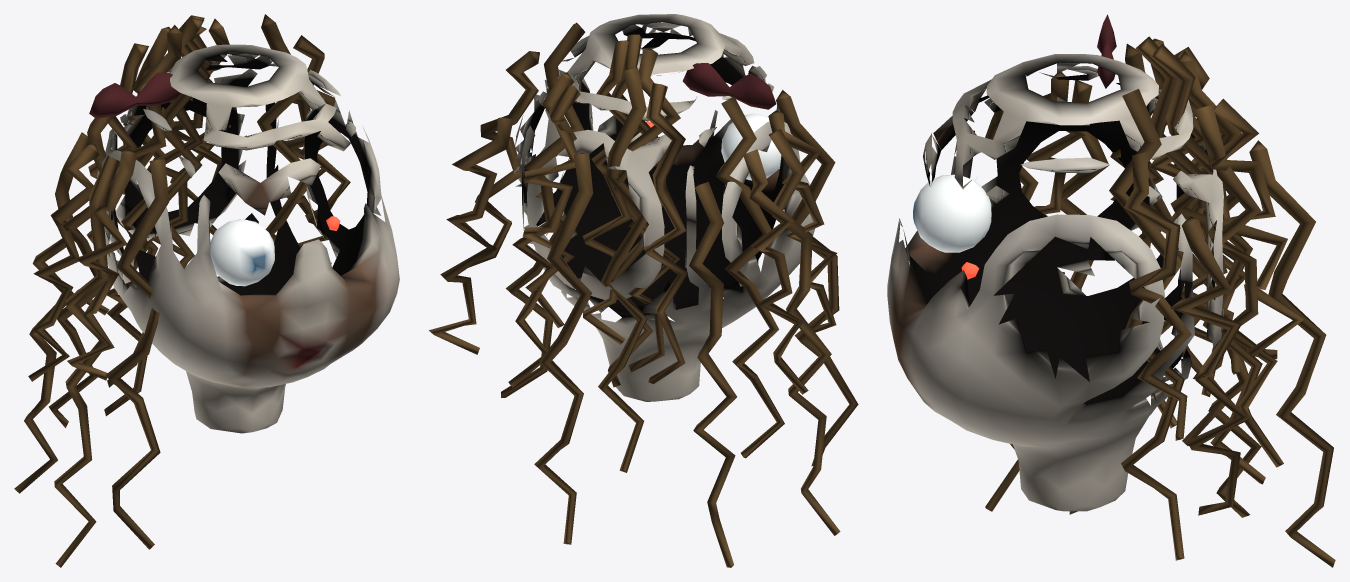
Rendered from doll_head_v14.glb.
3 renders of one model, left to right at view 1: azimuth 30°, elevation 25°; view 2: azimuth 150°, elevation 25°; view 3: azimuth 270°, elevation 25°, orthographic. The views are drawn at different scales.
Parts seen in each view (by area): view 1: doll_head; view 2: doll_head; view 3: doll_head.
Part boxes in pixels (x1,y1,x2,y2): doll_head: (14,14,399,567); doll_head: (429,14,858,567); doll_head: (887,14,1335,567).
Size of the model in its own units: 0.2731 by 0.3683 by 0.2614.
